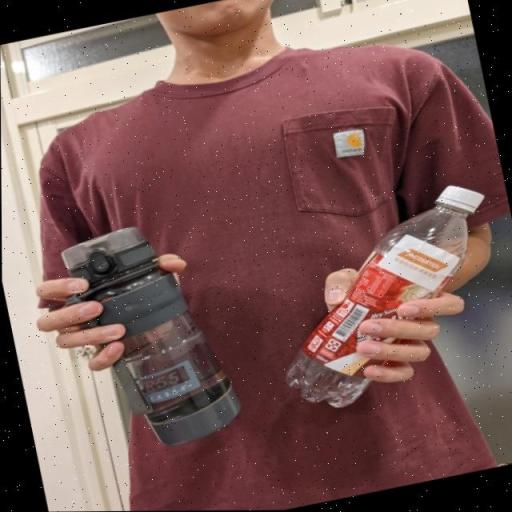plastic: (285, 186, 485, 409)
